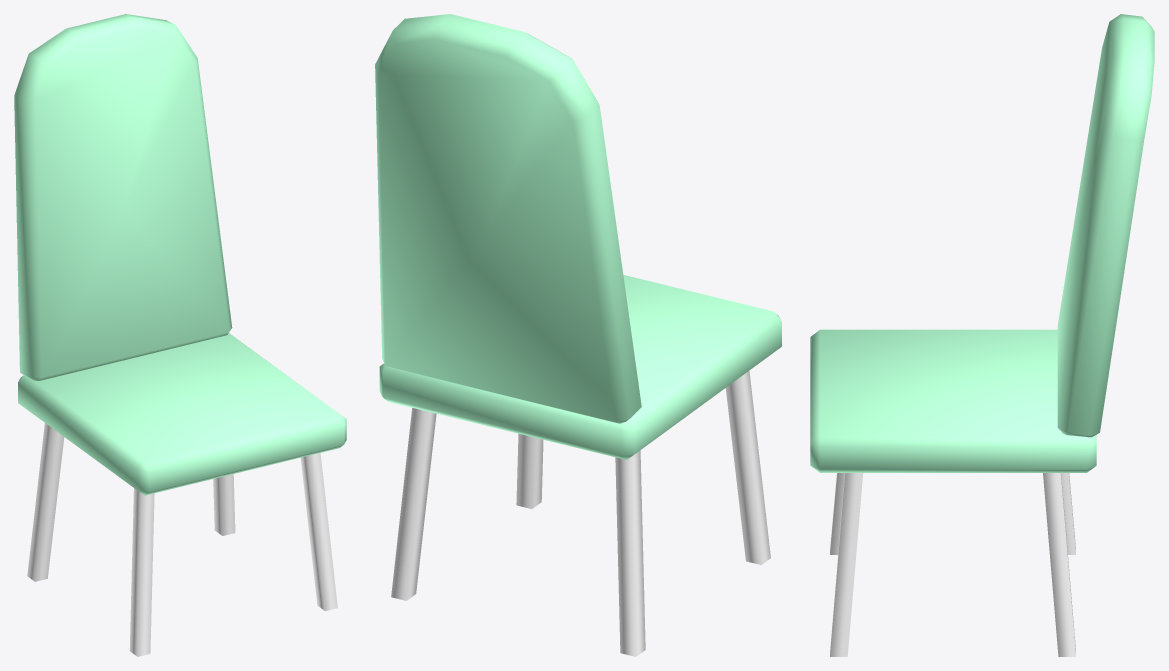
Rendered from Chair1.glb.
3 views of the same model, side by side, from view 1: azimuth 30°, elevation 25°; view 2: azimuth 150°, elevation 25°; view 3: azimuth 270°, elevation 25° (orthographic). The views are drawn at different scales.
Parts seen in each view (by area): view 1: Chair1; view 2: Chair1; view 3: Chair1.
Part boxes in pixels (x1=…): Chair1: x1=14, y1=14, x2=346, y2=656; Chair1: x1=375, y1=14, x2=781, y2=656; Chair1: x1=810, y1=14, x2=1154, y2=656.
Size of what is drawn, in the model's own units: 0.5795 by 1.35 by 0.7426.
1 material, 1 textured.
